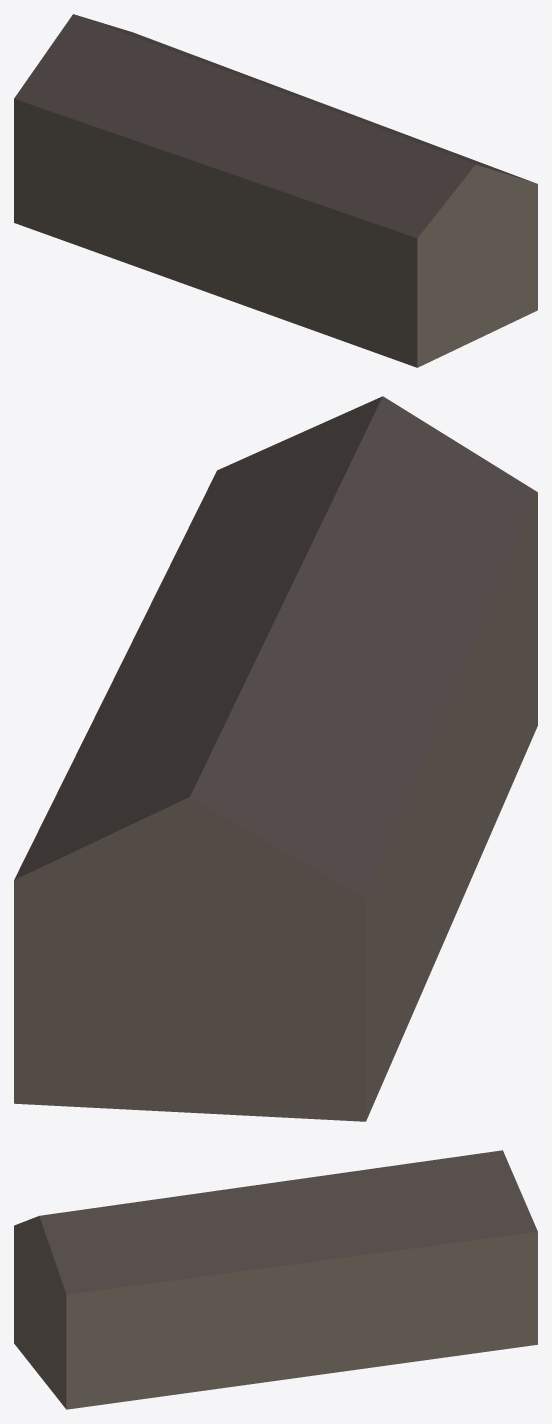
3 renders of one model, top to bottom at view 1: azimuth 30°, elevation 25°; view 2: azimuth 150°, elevation 25°; view 3: azimuth 270°, elevation 25°, orthographic. The views are drawn at different scales.
Visible parts, largest first — view 1: HP-w1198842228; view 2: HP-w1198842228; view 3: HP-w1198842228.
Part boxes in pixels (x1,y1,x2,y2): HP-w1198842228: (14, 14, 537, 367); HP-w1198842228: (14, 396, 537, 1121); HP-w1198842228: (14, 1150, 537, 1409).
Bounding box in the file's own units: 15.34 × 8.48 × 25.23.
